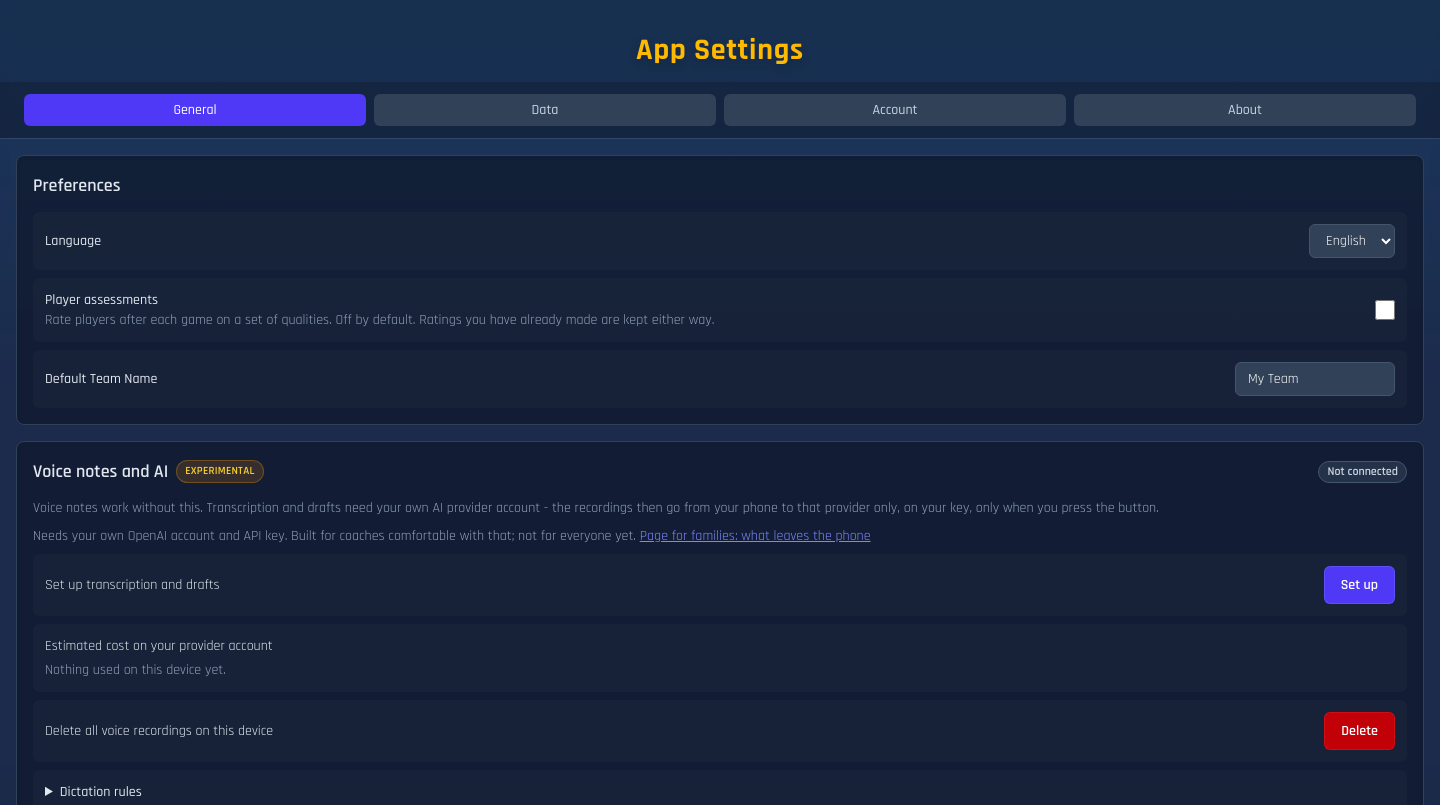
Test: <SettingsModal /> › player assessments are off by default and reveal their options when switched on
The image size is (1440, 805).
Click the checkbox with id "assessments-enabled-toggle" at (1385, 310), box [1375, 300, 1395, 320]
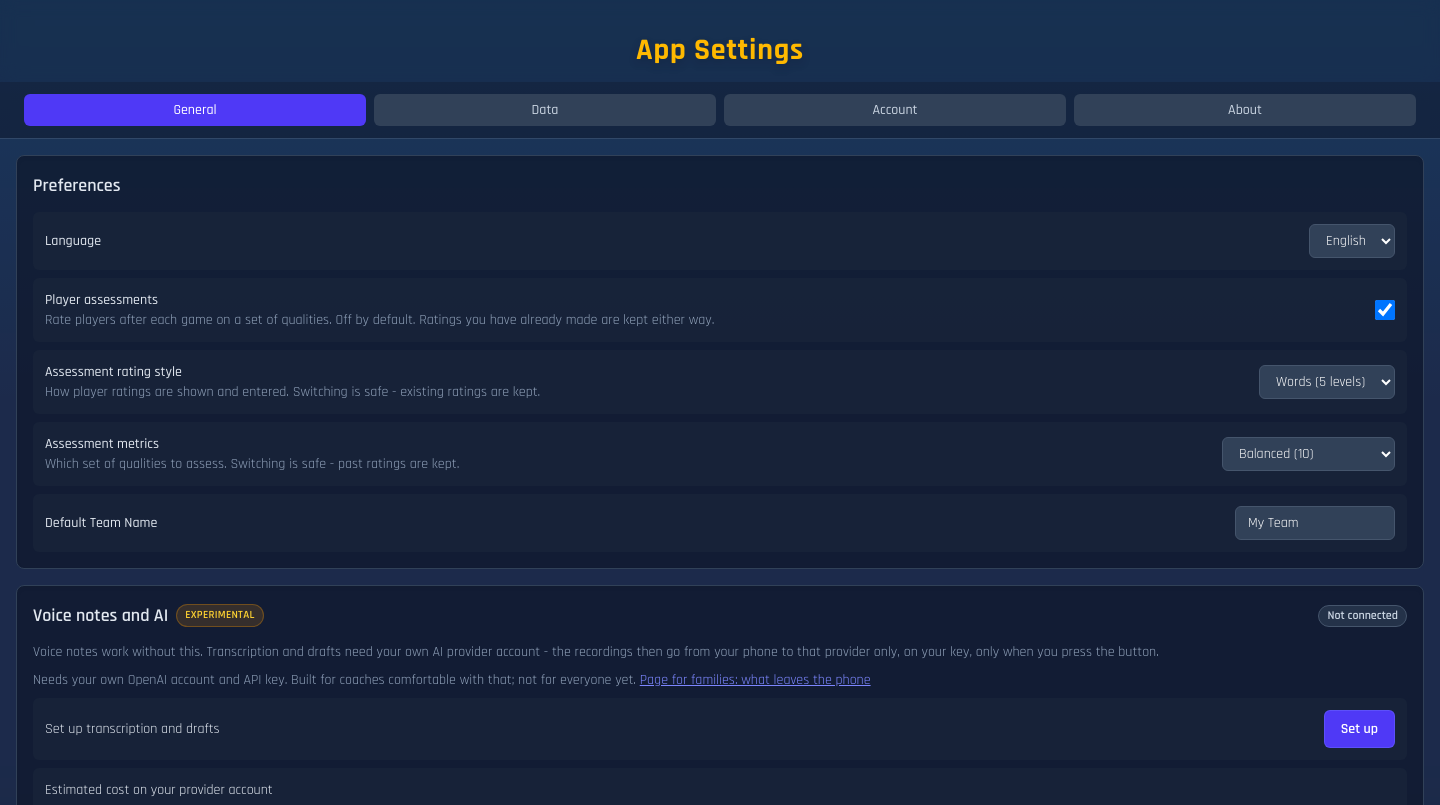
Check: the dropdown with id "assessment-rating-style-select" is shown, box [1259, 364, 1395, 398]
Check: the dropdown with id "assessment-template-select" is shown, box [1222, 436, 1395, 470]
